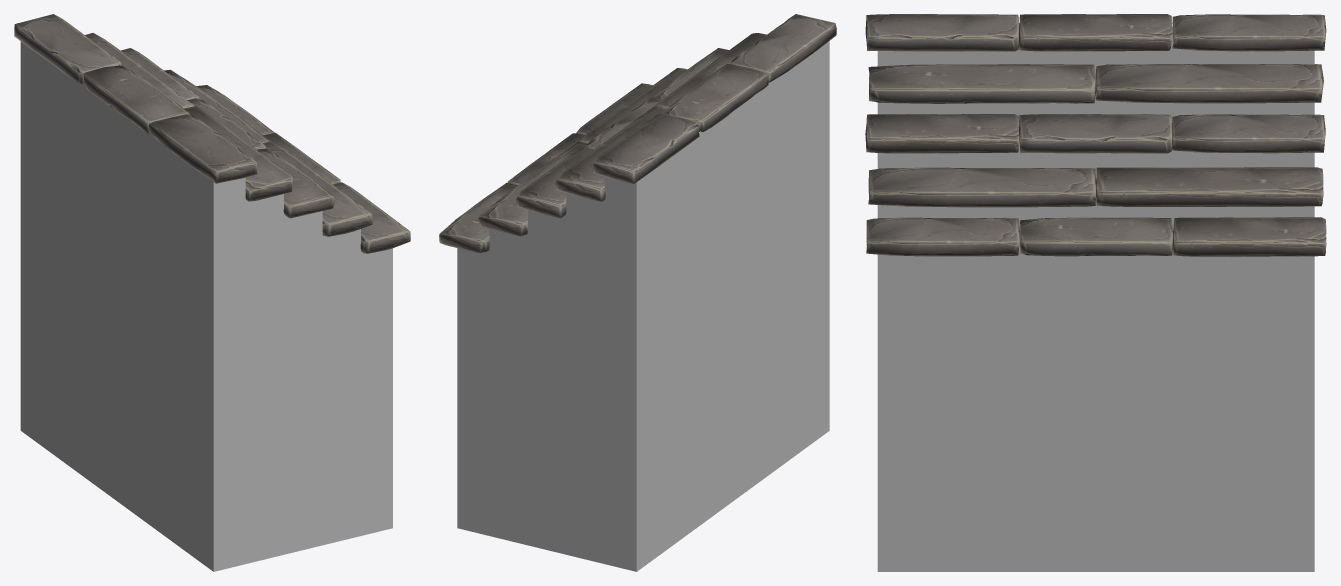
The model's file is SM_Stairs_Exterior_Bricks_03.fbx.
3 renders of one model, left to right at view 1: azimuth 30°, elevation 25°; view 2: azimuth 150°, elevation 25°; view 3: azimuth 270°, elevation 25°, orthographic. The views are drawn at different scales.
Visible parts, largest first — view 1: SM_Stairs_Exterior_Bricks_03; view 2: SM_Stairs_Exterior_Bricks_03; view 3: SM_Stairs_Exterior_Bricks_03.
Part boxes in pixels (left/top/right/bottom): SM_Stairs_Exterior_Bricks_03: left=14, top=14, right=410, bottom=571; SM_Stairs_Exterior_Bricks_03: left=439, top=14, right=836, bottom=571; SM_Stairs_Exterior_Bricks_03: left=865, top=14, right=1326, bottom=571.
Bounding box in the file's own units: 1.54 × 3.02 × 2.75.
